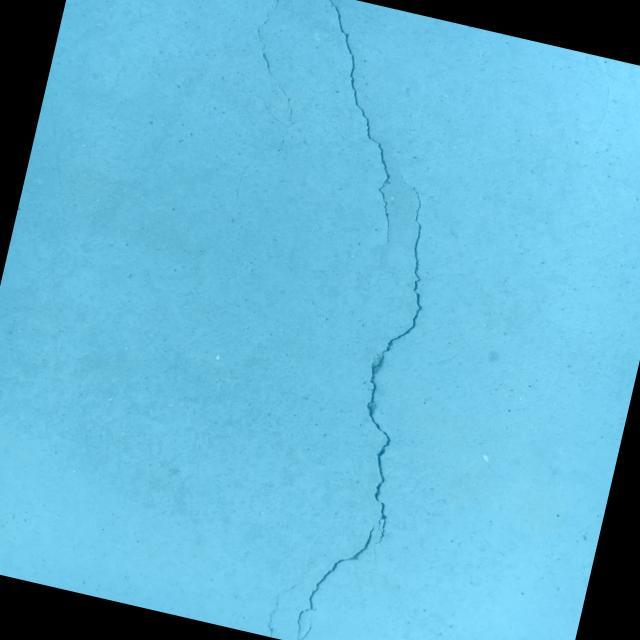crack: (313, 168, 466, 546), (269, 0, 439, 255), (231, 0, 324, 153), (291, 513, 375, 640), (263, 562, 309, 640), (232, 148, 260, 198)
